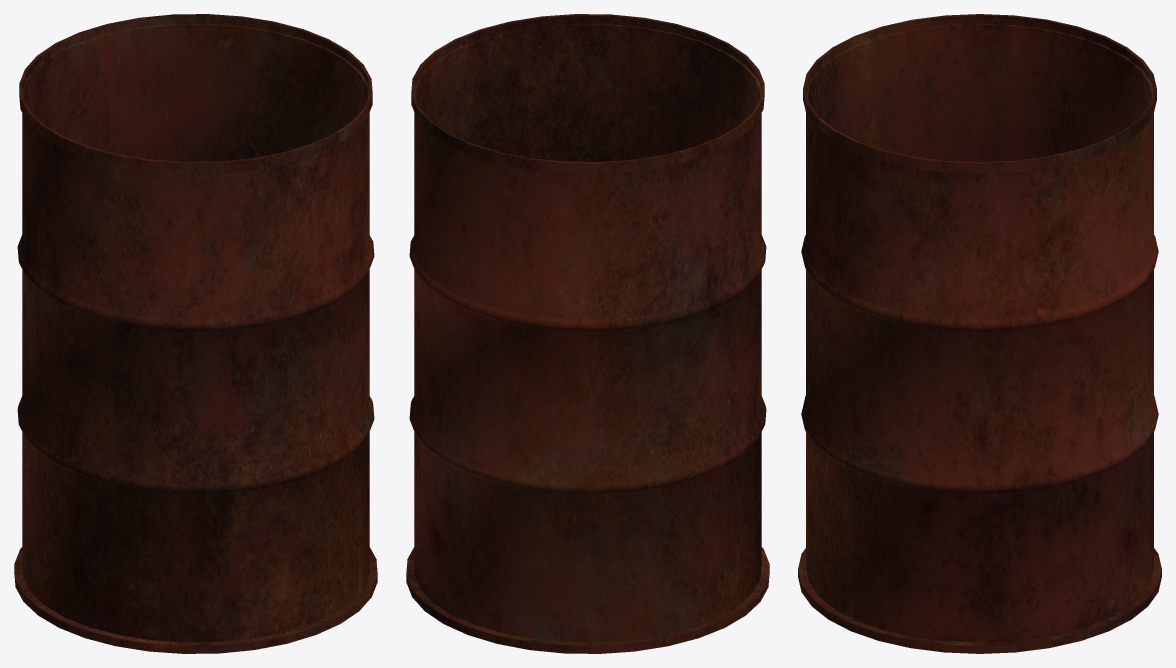
The model's file is Rusted.fbx.
3 renders of one model, left to right at view 1: azimuth 30°, elevation 25°; view 2: azimuth 150°, elevation 25°; view 3: azimuth 270°, elevation 25°, orthographic.
Parts seen in each view (by area): view 1: low_poly; view 2: low_poly; view 3: low_poly.
Part boxes in pixels (<box>): low_poly: <box>14,14,377,653</box>; low_poly: <box>406,14,769,653</box>; low_poly: <box>798,14,1161,653</box>.
Size of the model in its own units: 209 by 310 by 209.
